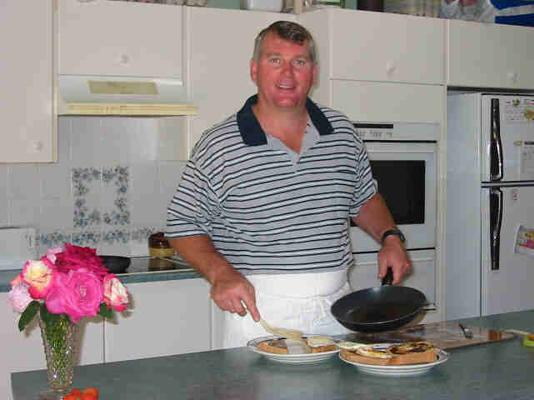person: (166, 24, 417, 348)
